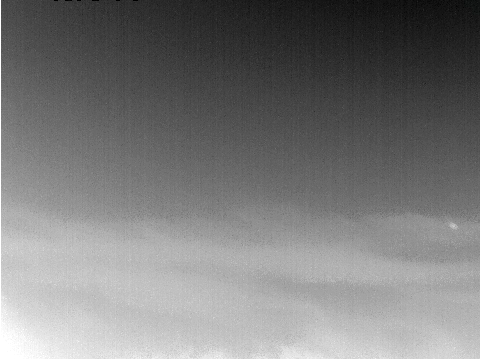dim target: (449, 221, 458, 230)
